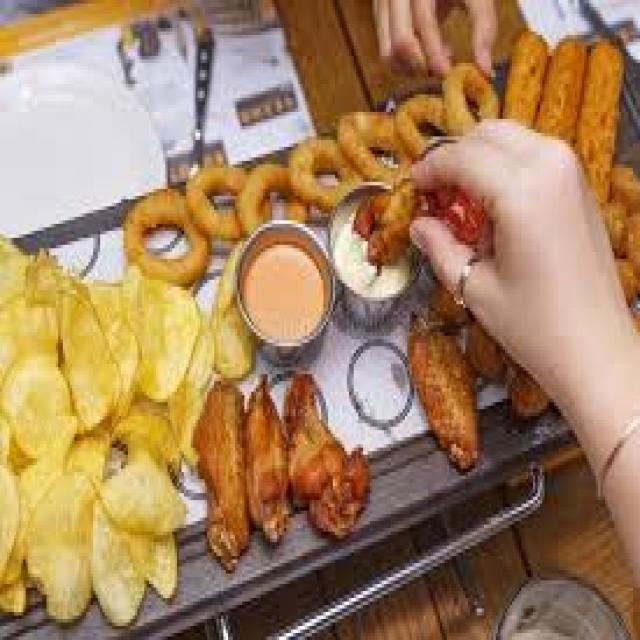Chicken Wings: (349, 182, 573, 465), (195, 381, 372, 556)
Onion Rings: (116, 49, 512, 276)
